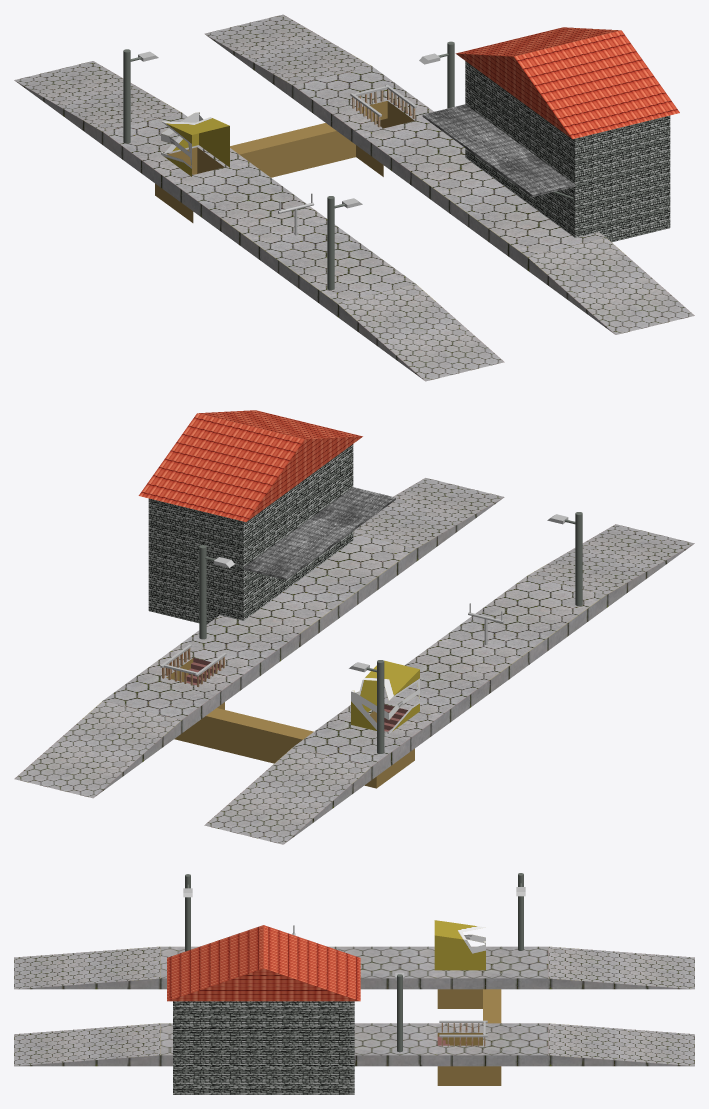
Rendered from stazione1.obj.
3 renders of one model, top to bottom at view 1: azimuth 30°, elevation 25°; view 2: azimuth 150°, elevation 25°; view 3: azimuth 270°, elevation 25°, orthographic. The views are drawn at different scales.
Visible parts, largest first — view 1: Cube.029_Cube.006, Cube.002_Cube.004, Cube.004_Cube, Cube.003_Cube.005, Cube.001_Cube.003, Cylinder.006, Cylinder.008_Cylinder.006; view 2: Cube.029_Cube.006, Cube.002_Cube.004, Cube.004_Cube, Cube.003_Cube.005, Cube.001_Cube.003, Cylinder.010_Cylinder.006, Cylinder.006, Cylinder.008_Cylinder.006; view 3: Cube.029_Cube.006, Cube.002_Cube.004, Cube.004_Cube, Cube.001_Cube.003, Cylinder.010_Cylinder.006, Cylinder.006, Cylinder.008_Cylinder.006.
Part boxes in pixels (left/top/right/bottom): Cube.029_Cube.006: left=14, top=14, right=694, bottom=381; Cube.002_Cube.004: left=465, top=61, right=670, bottom=242; Cube.004_Cube: left=455, top=27, right=679, bottom=139; Cube.003_Cube.005: left=422, top=104, right=575, bottom=196; Cube.001_Cube.003: left=161, top=112, right=229, bottom=176; Cylinder.006: left=123, top=49, right=130, bottom=143; Cylinder.008_Cylinder.006: left=327, top=196, right=334, bottom=290; Cube.029_Cube.006: left=14, top=478, right=694, bottom=844; Cube.002_Cube.004: left=148, top=444, right=353, bottom=624; Cube.004_Cube: left=138, top=410, right=362, bottom=521; Cube.003_Cube.005: left=243, top=487, right=395, bottom=579; Cube.001_Cube.003: left=351, top=660, right=419, bottom=733; Cylinder.010_Cylinder.006: left=199, top=545, right=206, bottom=639; Cylinder.006: left=377, top=660, right=384, bottom=753; Cylinder.008_Cylinder.006: left=575, top=512, right=582, bottom=605; Cube.029_Cube.006: left=14, top=946, right=694, bottom=1085; Cube.002_Cube.004: left=173, top=1001, right=354, bottom=1094; Cube.004_Cube: left=167, top=925, right=360, bottom=1001; Cube.001_Cube.003: left=434, top=920, right=485, bottom=970; Cylinder.010_Cylinder.006: left=397, top=974, right=402, bottom=1052; Cylinder.006: left=518, top=873, right=523, bottom=950; Cylinder.008_Cylinder.006: left=185, top=874, right=190, bottom=951.
Bounding box in the file's own units: 110 × 57.72 × 225.
